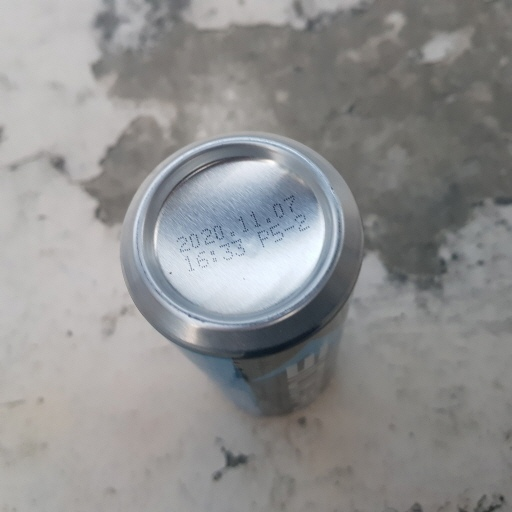Metal_0: (120, 132, 367, 419)
